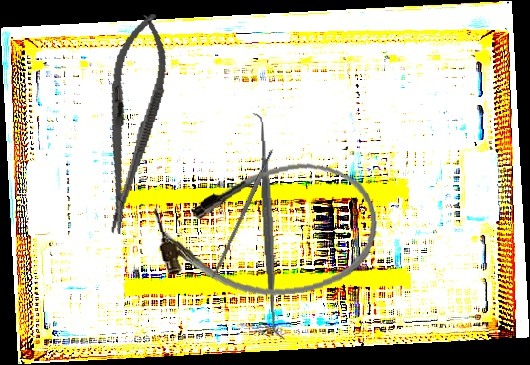Cannula: (150, 155, 385, 308)
Needle Holder: (86, 9, 177, 238)
Scalpel Handle: (209, 147, 277, 281)
Spatula Surgical: (250, 111, 287, 342)
